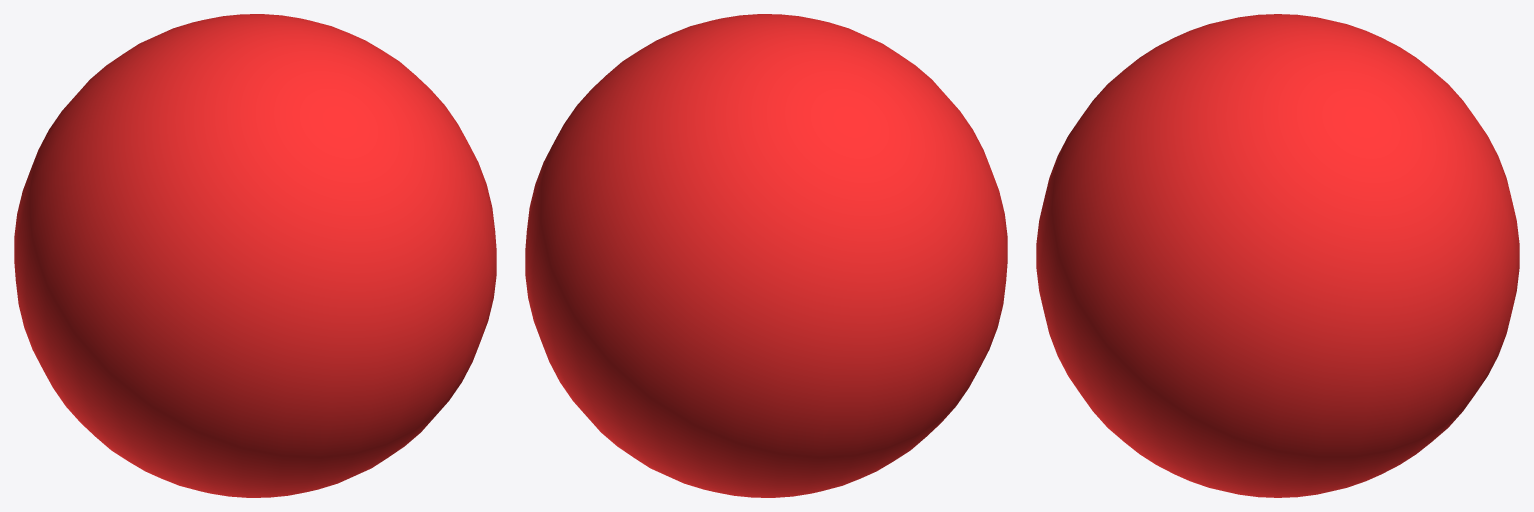
File: sphere_smooth.obj
3 renders of one model, left to right at view 1: azimuth 30°, elevation 25°; view 2: azimuth 150°, elevation 25°; view 3: azimuth 270°, elevation 25°, orthographic.
Visible parts, largest first — view 1: Sphere_Sphere.001; view 2: Sphere_Sphere.001; view 3: Sphere_Sphere.001.
Boxes of the visible parts, x1,y1,x2,y2 form: Sphere_Sphere.001: [14, 14, 496, 497]; Sphere_Sphere.001: [525, 14, 1007, 497]; Sphere_Sphere.001: [1036, 14, 1519, 497].
Size of the model in its own units: 2 by 2 by 2.
